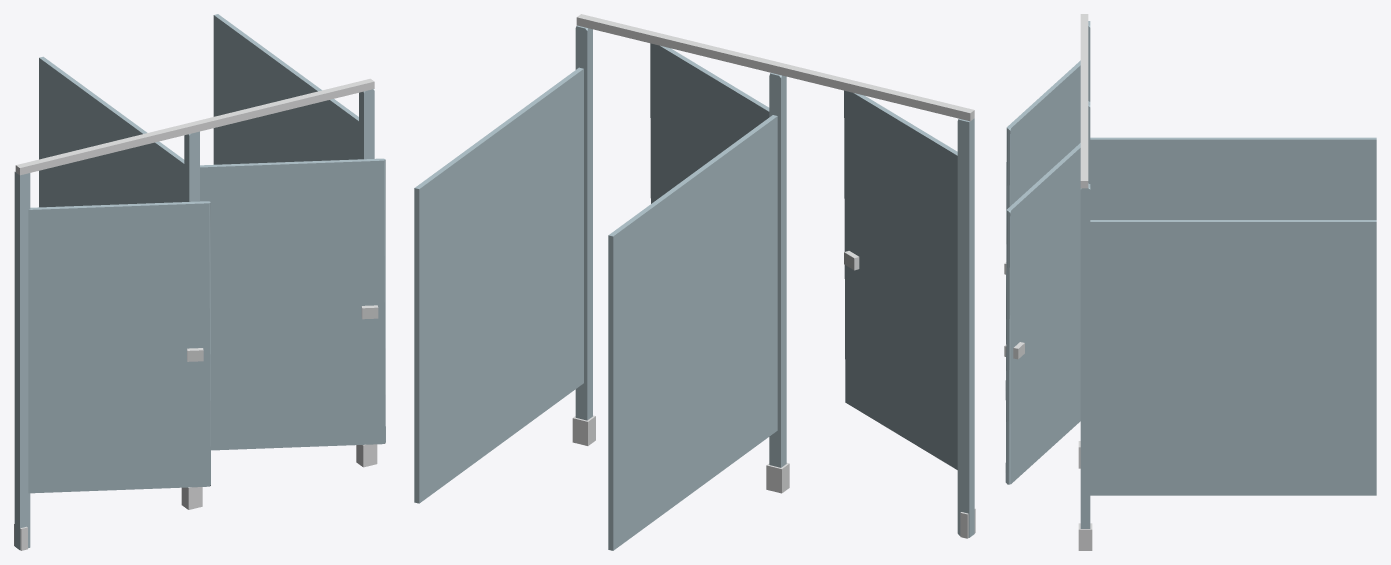
The model's file is stalls.glb.
3 views of the same model, side by side, from view 1: azimuth 30°, elevation 25°; view 2: azimuth 150°, elevation 25°; view 3: azimuth 270°, elevation 25° (orthographic). The views are drawn at different scales.
Parts seen in each view (by area): view 1: stalls_stall, stalls_chrome; view 2: stalls_stall, stalls_chrome; view 3: stalls_stall, stalls_chrome.
Part boxes in pixels (<box>): stalls_stall: <box>14,14,385,549</box>; stalls_chrome: <box>14,78,378,550</box>; stalls_stall: <box>414,25,974,550</box>; stalls_chrome: <box>572,14,975,538</box>; stalls_stall: <box>1005,21,1376,528</box>; stalls_chrome: <box>1004,14,1092,550</box>.
Size of the model in its own units: 2.04 by 2.09 by 1.91.
